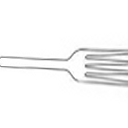fork: (1, 36, 128, 102)
